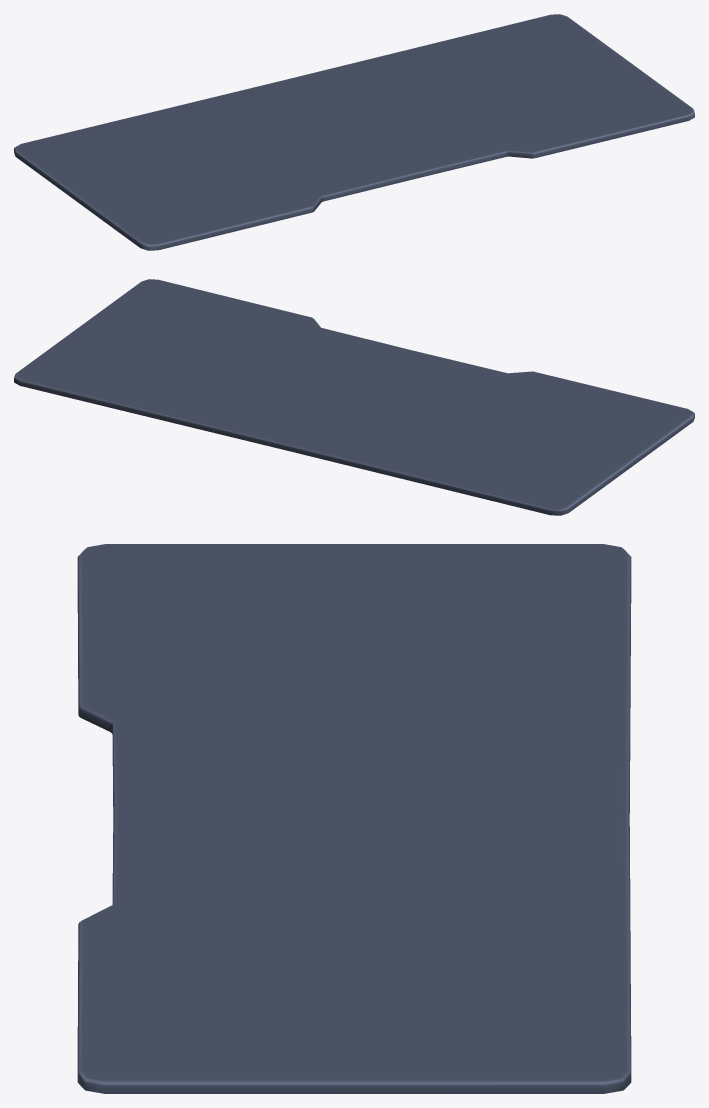
File: obj_floor.gltf
The picture shows the model from 3 angles, top to bottom: view 1: azimuth 30°, elevation 25°; view 2: azimuth 150°, elevation 25°; view 3: azimuth 270°, elevation 25°; orthographic projection. The views are drawn at different scales.
Visible parts, largest first — view 1: obj_floor; view 2: obj_floor; view 3: obj_floor.
Boxes of the visible parts, x1=… form: obj_floor: x1=14, y1=14, x2=694, y2=250; obj_floor: x1=14, y1=279, x2=694, y2=515; obj_floor: x1=77, y1=544, x2=631, y2=1093.
Size of what is drawn, in the model's own units: 15.73 by 0.15 by 6.82.
1 material, 1 textured.
